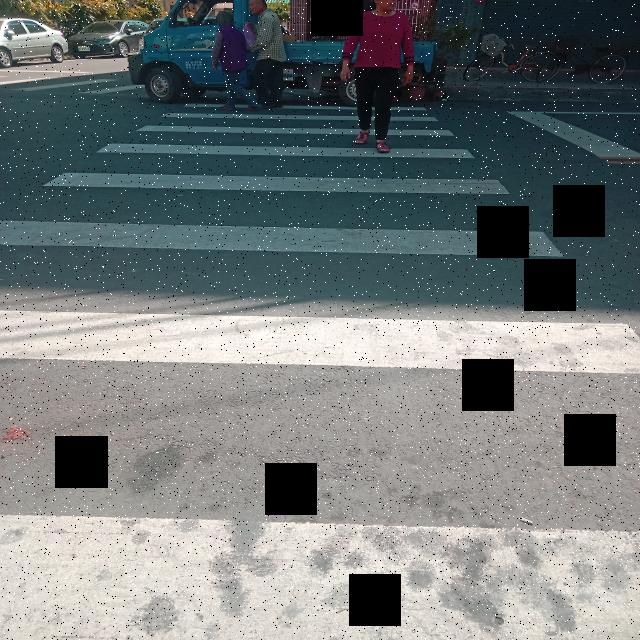zebra_crossing: (1, 108, 640, 640), (340, 0, 413, 154), (212, 11, 260, 111), (248, 0, 287, 109), (0, 74, 147, 96)
